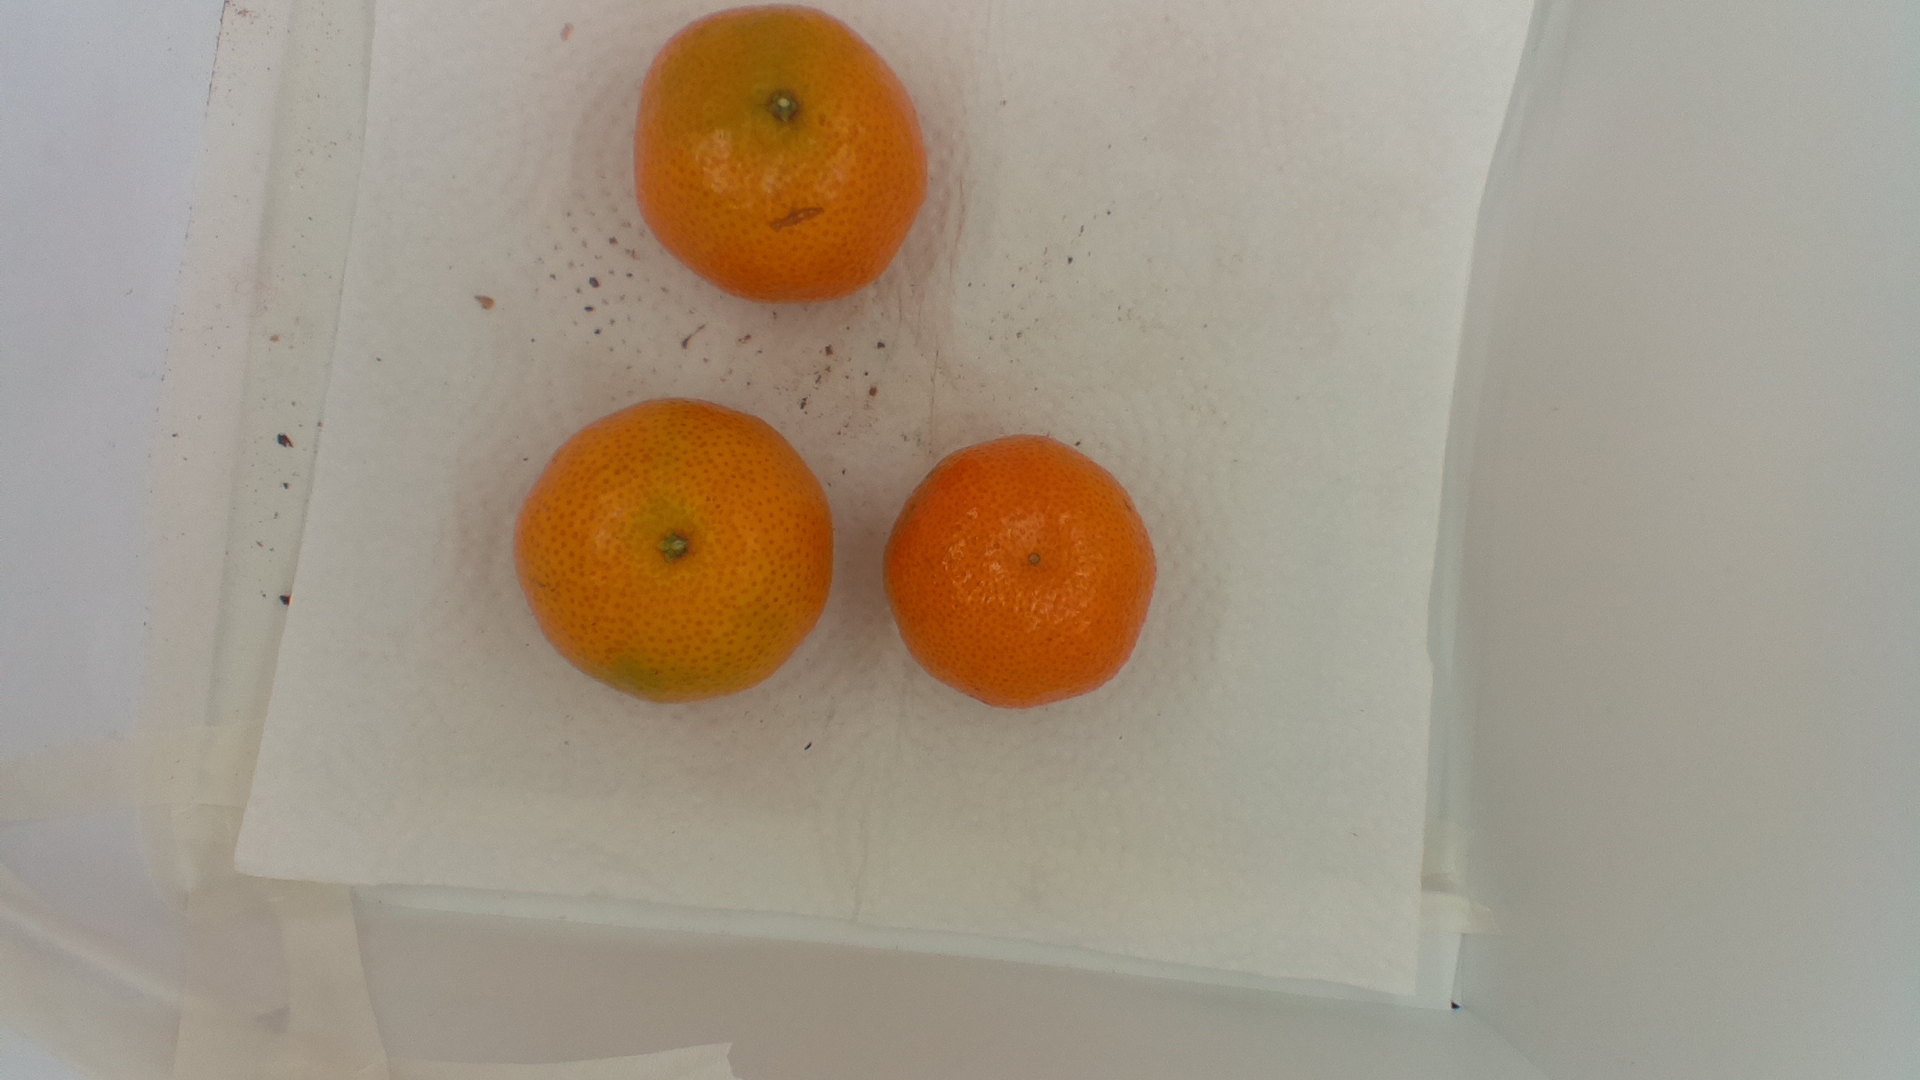fruit: (508, 389, 841, 712), (633, 1, 944, 305), (874, 427, 1162, 713)
